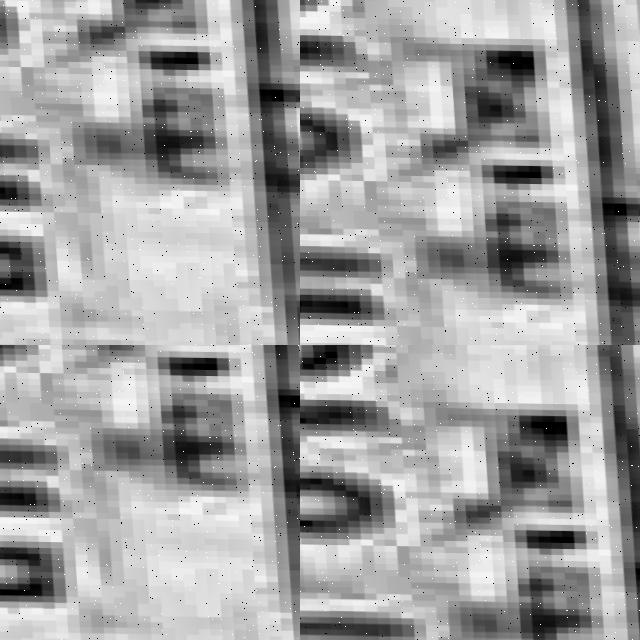license-plate: (0, 0, 300, 345), (300, 345, 640, 640), (0, 345, 300, 640)
